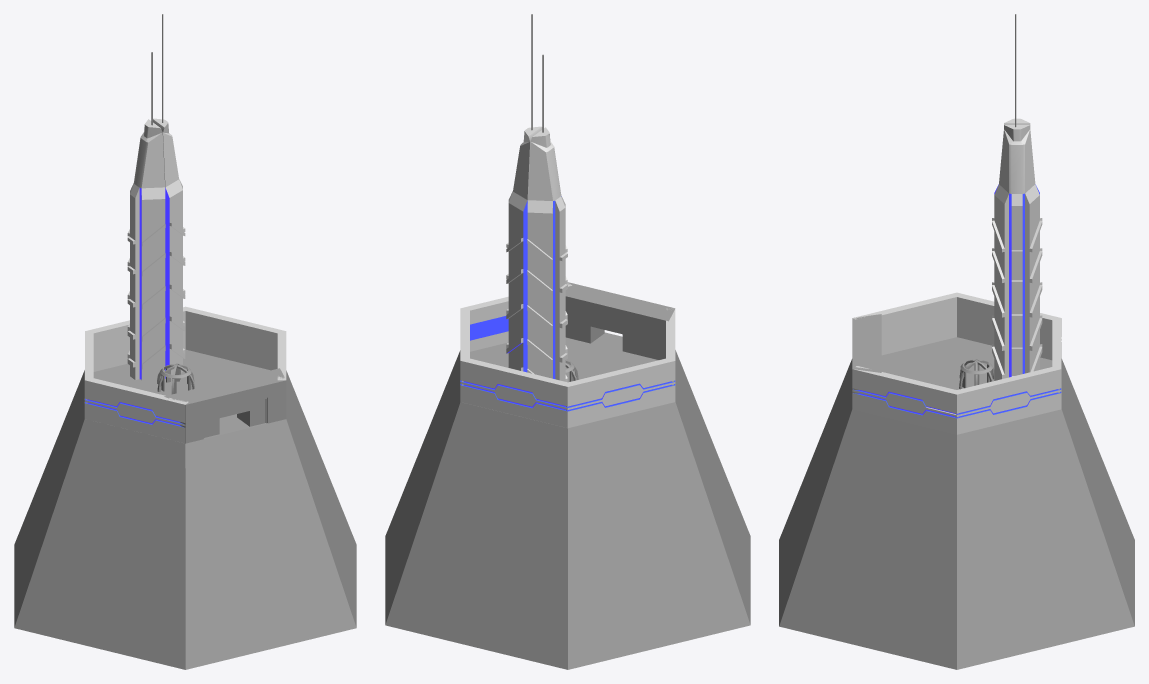
The model's file is Mother_ver1.1.fbx.
3 renders of one model, left to right at view 1: azimuth 30°, elevation 25°; view 2: azimuth 150°, elevation 25°; view 3: azimuth 270°, elevation 25°, orthographic. The views are drawn at different scales.
Visible parts, largest first — view 1: pCylinder19, pCylinder20, pCube66, pCube56, pCube57, pCube58, pPipe9; view 2: pCylinder19, pCylinder20, pCube66, pCube58, pCube59, pCube55; view 3: pCylinder19, pCylinder20, pCube57, pCube55, pCube56, pCube59, pCube66, pPipe9.
Boxes of the visible parts, <box> form: pCylinder19: <box>14,349,356,669</box>; pCylinder20: <box>127,118,185,381</box>; pCube66: <box>164,368,286,443</box>; pCube56: <box>84,377,188,443</box>; pCube57: <box>183,306,285,370</box>; pCube58: <box>85,307,189,371</box>; pPipe9: <box>157,363,194,394</box>; pCylinder19: <box>385,332,750,669</box>; pCylinder20: <box>506,126,567,382</box>; pCube66: <box>565,282,675,359</box>; pCube58: <box>460,357,571,427</box>; pCube59: <box>563,358,674,427</box>; pCube55: <box>461,283,571,351</box>; pCylinder19: <box>779,337,1134,669</box>; pCylinder20: <box>992,118,1042,380</box>; pCube57: <box>955,366,1061,434</box>; pCube55: <box>852,366,960,434</box>; pCube56: <box>853,292,961,355</box>; pCube59: <box>953,292,1061,360</box>; pCube66: <box>852,314,881,393</box>; pPipe9: <box>959,359,994,389</box>.
Bounding box in the file's own units: 4272 × 6559 × 3700.
